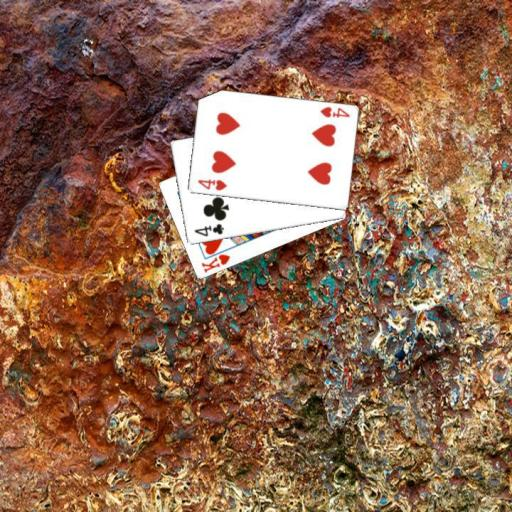4C: (191, 221, 226, 238)
4H: (195, 176, 227, 192), (317, 104, 351, 119)
KH: (198, 251, 232, 275)
